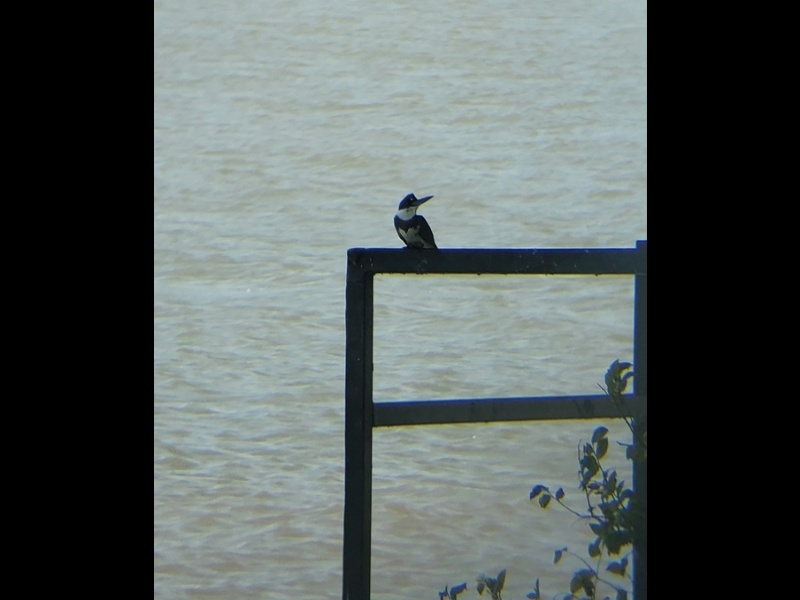kingfisher: (393, 191, 441, 253)
